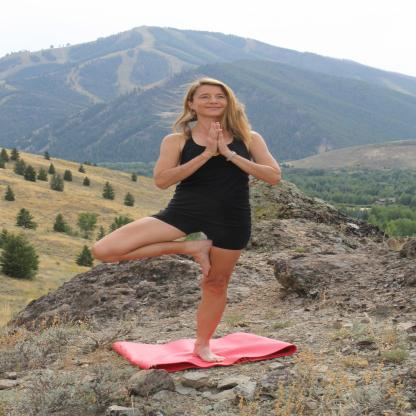tree: (86, 69, 288, 372)
